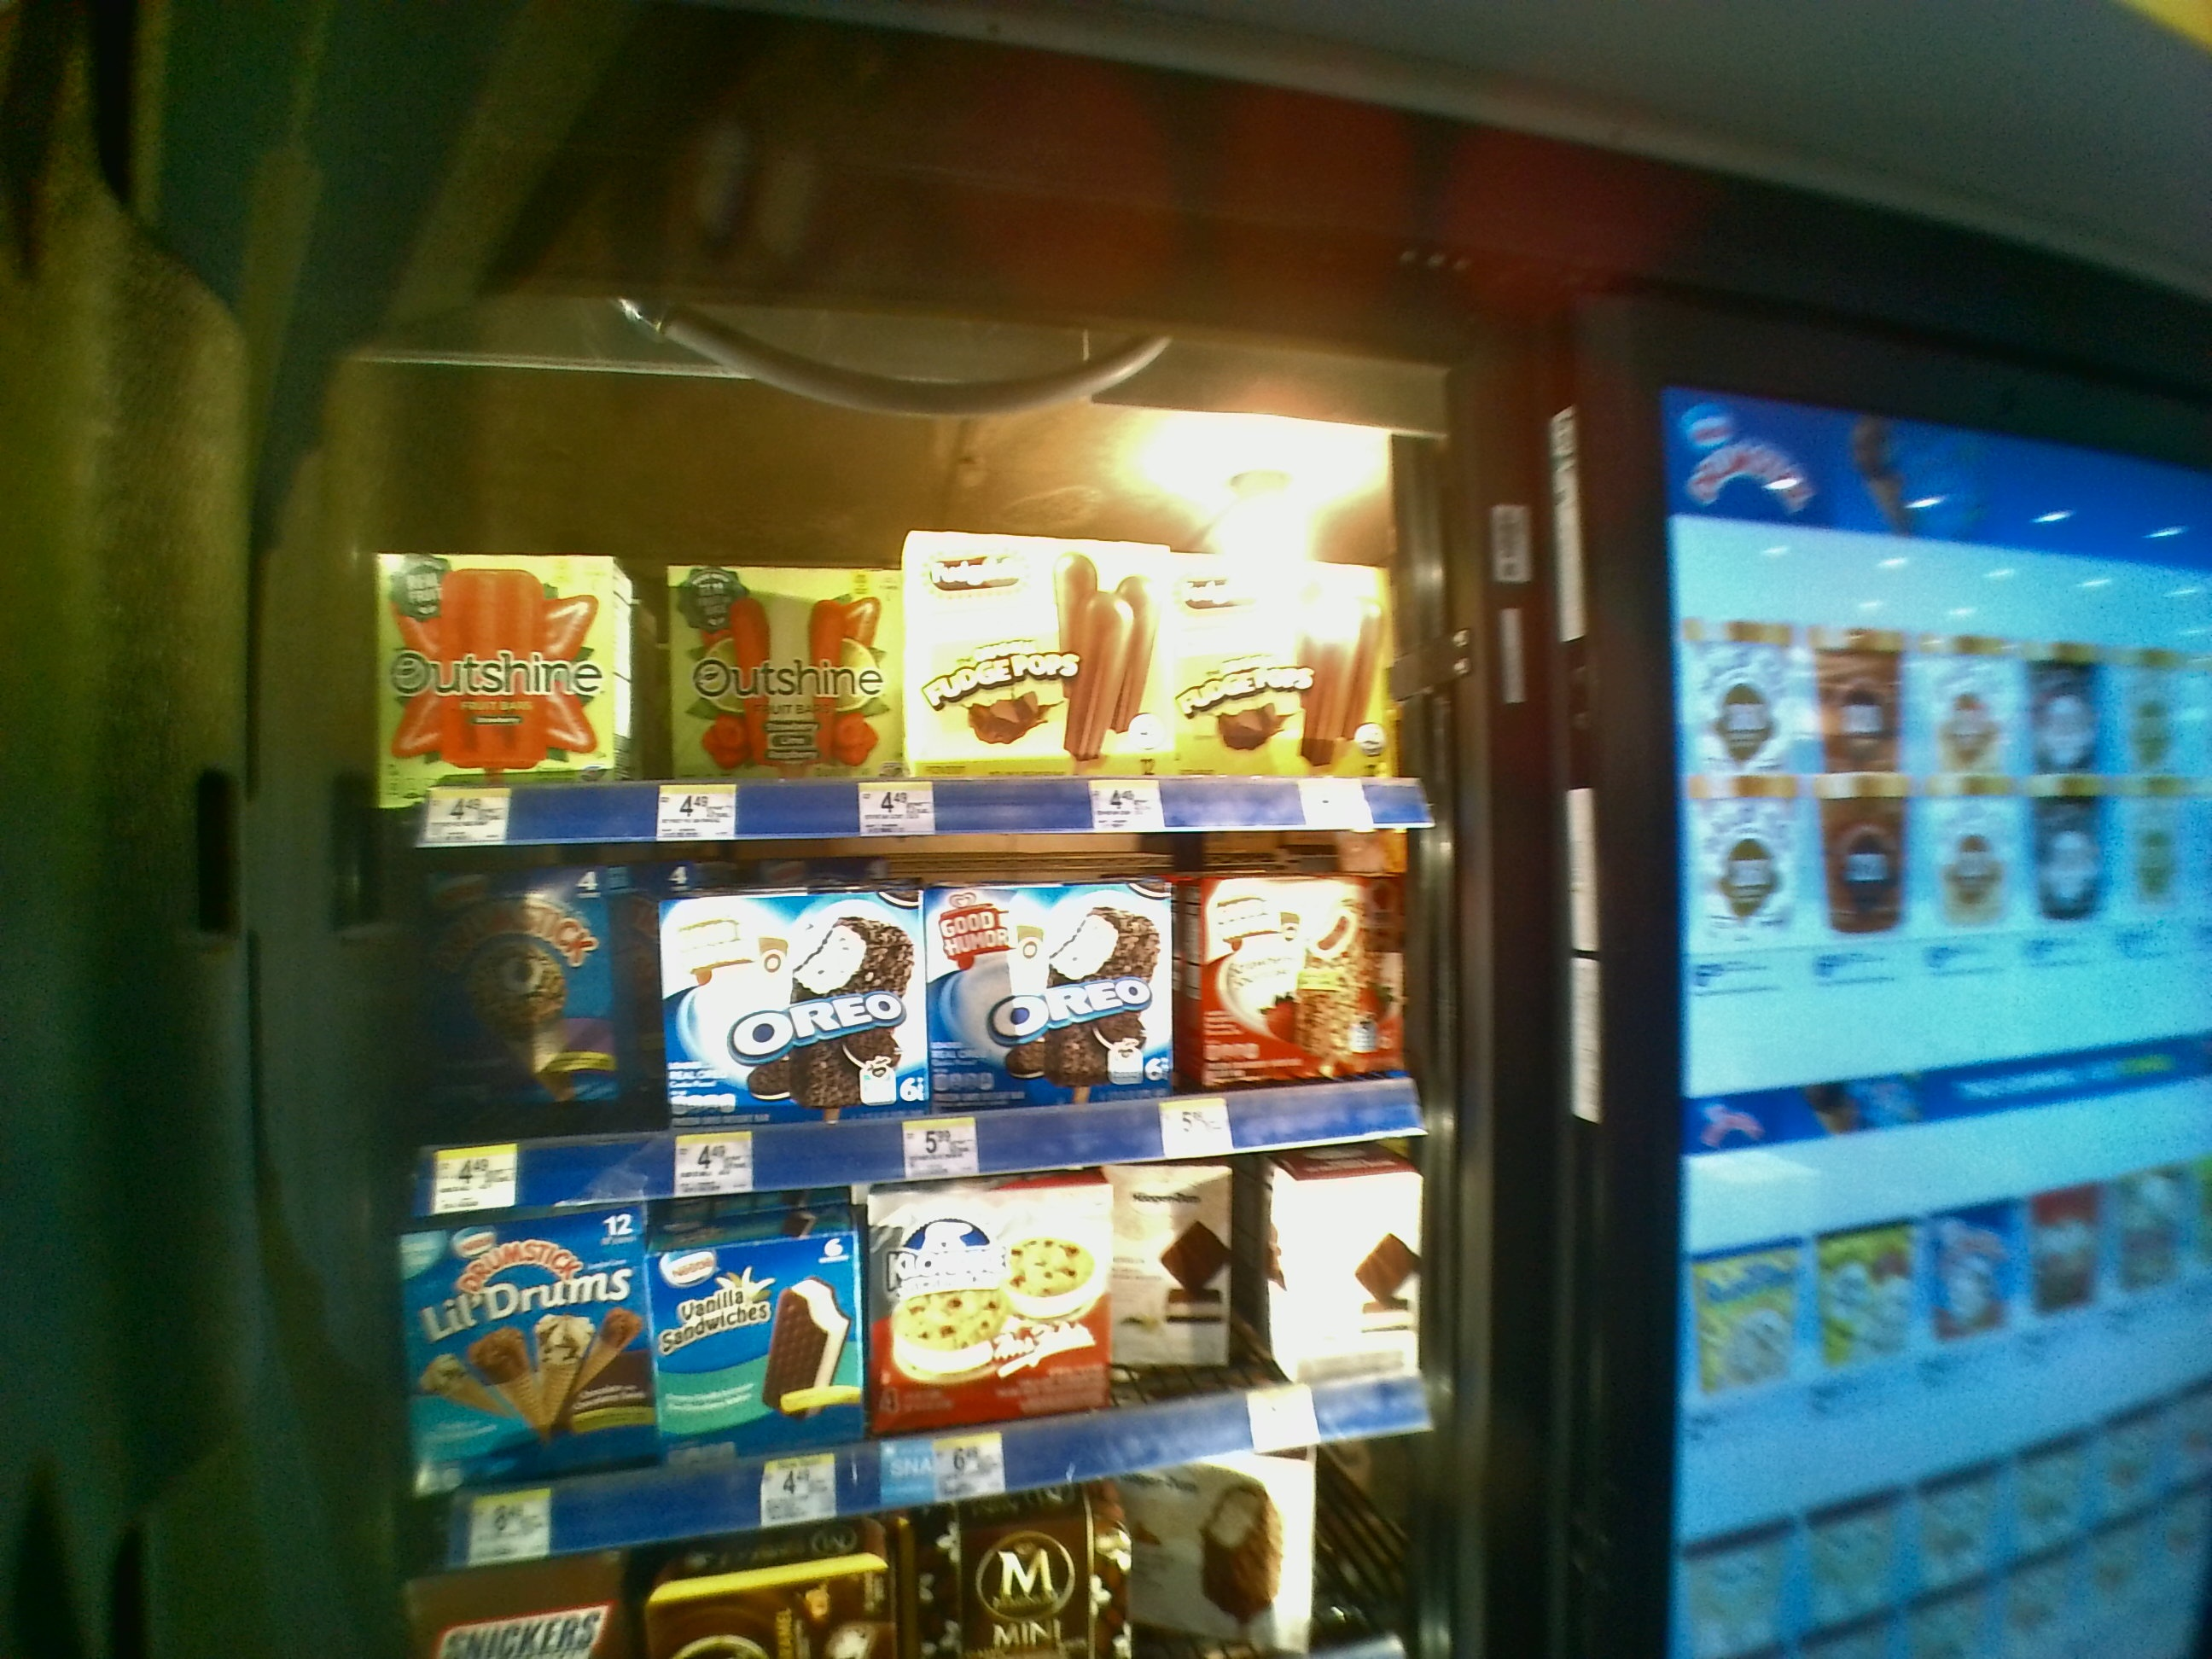shelf: (369, 450, 1435, 838), (371, 864, 1451, 1220)
